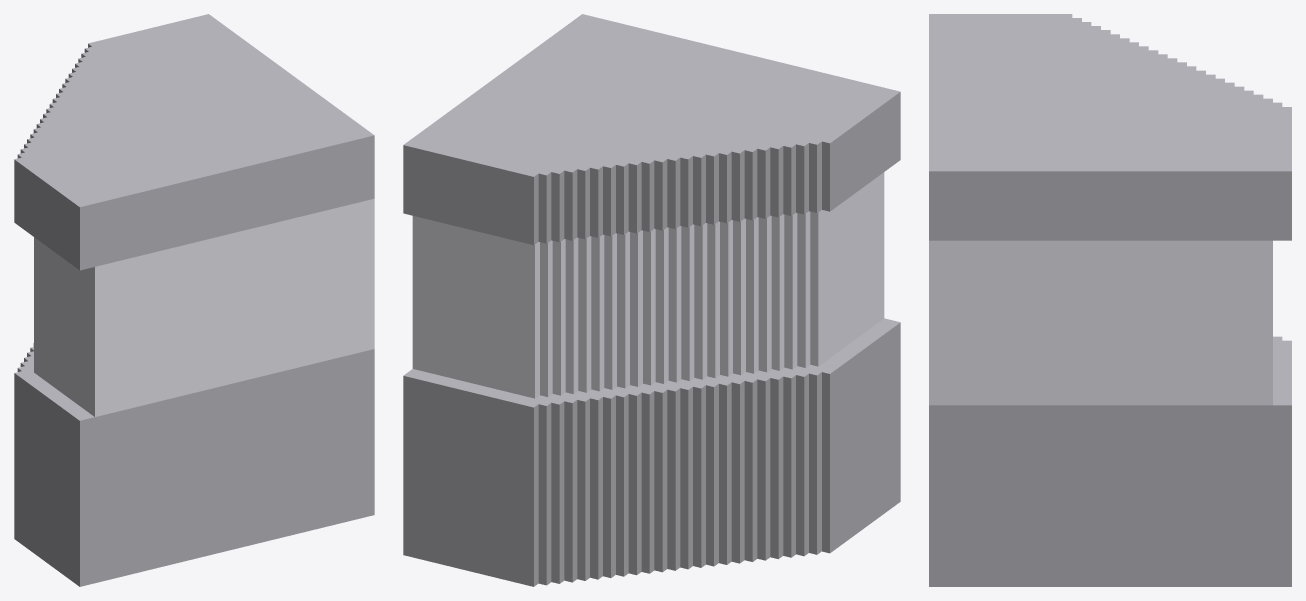
The model's file is gym-103.obj.
3 renders of one model, left to right at view 1: azimuth 30°, elevation 25°; view 2: azimuth 150°, elevation 25°; view 3: azimuth 270°, elevation 25°, orthographic. The views are drawn at different scales.
Bounding box in the file's own units: 3.9 × 4.8 × 3.8.
1 material, 1 textured.
